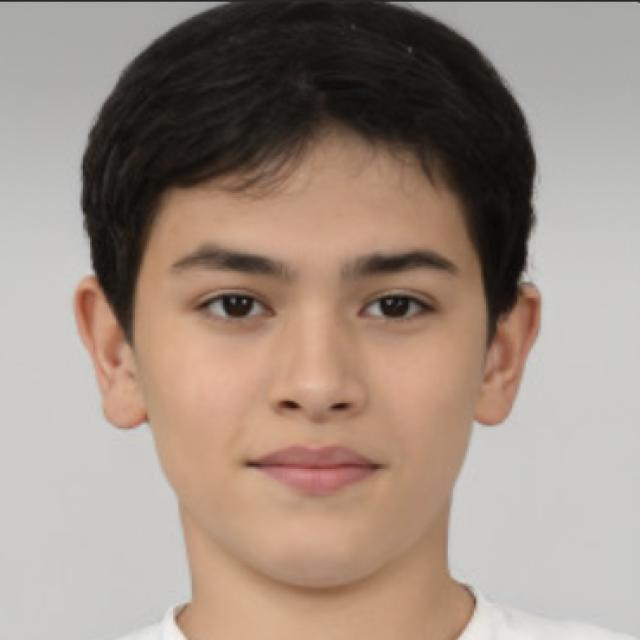natural: (86, 29, 528, 547)
